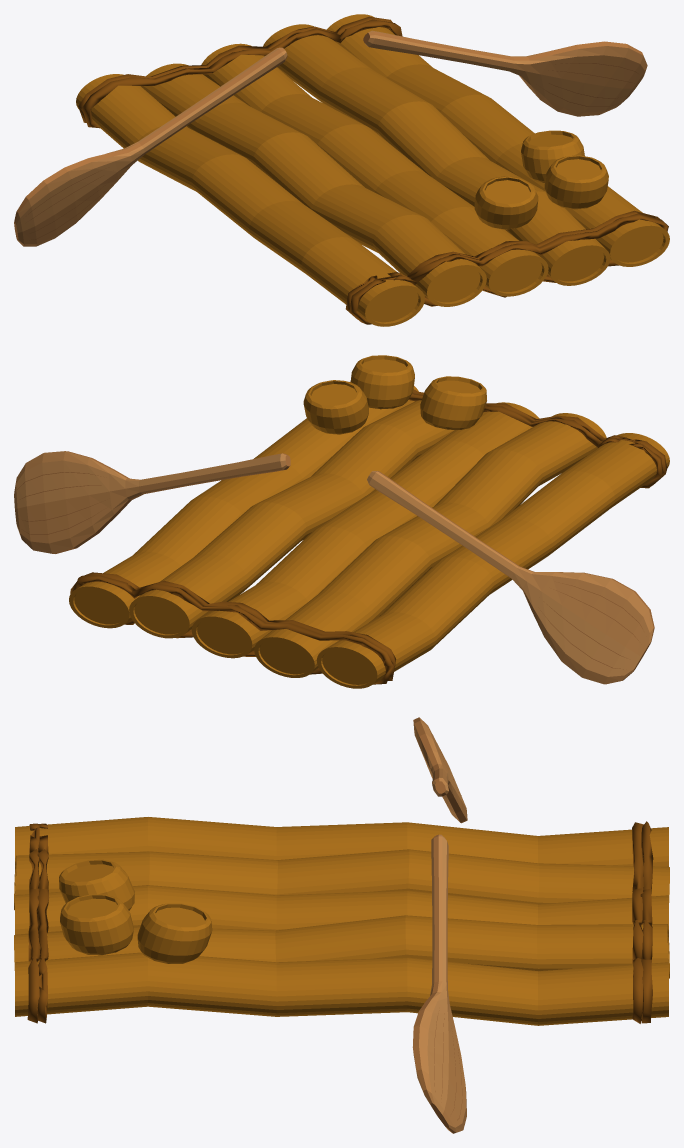
File: n-raft.glb
3 renders of one model, top to bottom at view 1: azimuth 30°, elevation 25°; view 2: azimuth 150°, elevation 25°; view 3: azimuth 270°, elevation 25°, orthographic. The views are drawn at different scales.
Visible parts, largest first — view 1: Trunk 2, Trunk 1, Noddsay carved wood paddle (×2), Trunk 6, Trunk 3, Trunk 7, Barrel 1, Barrel 2, Ropes 1, Ropes 4, Barrel 3, Ropes 3 (+1 smaller); view 2: Noddsay carved wood paddle (×2), Trunk 2, Trunk 1, Trunk 6, Trunk 3, Trunk 7, Barrel 2, Barrel 3, Ropes 3, Barrel 1, Ropes 4, Ropes 2 (+1 smaller); view 3: Trunk 7, Trunk 1, Trunk 2, Trunk 6, Trunk 3, Noddsay carved wood paddle (×2), Barrel 1, Barrel 3, Barrel 2, Ropes 4, Ropes 1, Ropes 3 (+1 smaller).
Boxes of the visible parts, box(x1,y1,x2,y2) form: Trunk 2: box(76, 74, 424, 326); Trunk 1: box(141, 63, 486, 306); Noddsay carved wood paddle (×2): box(14, 30, 647, 246); Trunk 6: box(263, 24, 610, 285); Trunk 3: box(201, 43, 548, 296); Trunk 7: box(327, 14, 669, 266); Barrel 1: box(544, 155, 608, 209); Barrel 2: box(474, 176, 538, 229); Ropes 1: box(349, 213, 668, 324); Ropes 4: box(82, 19, 402, 128); Barrel 3: box(521, 130, 584, 182); Ropes 3: box(78, 16, 392, 122); Noddsay carved wood paddle (×2): box(14, 451, 654, 684); Trunk 2: box(316, 433, 669, 688); Trunk 1: box(254, 413, 606, 677); Trunk 6: box(129, 400, 454, 638); Trunk 3: box(191, 402, 539, 658); Trunk 7: box(69, 386, 418, 628); Barrel 2: box(420, 376, 486, 429); Barrel 3: box(303, 380, 368, 434); Ropes 3: box(70, 575, 393, 684); Barrel 1: box(350, 355, 414, 409); Ropes 4: box(77, 572, 396, 680); Ropes 2: box(409, 393, 663, 488); Trunk 7: box(15, 952, 668, 1025); Trunk 1: box(14, 849, 669, 910); Trunk 2: box(15, 817, 668, 866); Trunk 6: box(14, 915, 669, 978); Trunk 3: box(15, 885, 668, 935); Noddsay carved wood paddle (×2): box(412, 717, 467, 1133); Barrel 1: box(60, 894, 133, 955); Barrel 3: box(137, 903, 212, 963); Barrel 2: box(59, 859, 134, 910); Ropes 4: box(632, 822, 643, 1023); Ropes 1: box(27, 823, 40, 1023); Ropes 3: box(640, 821, 653, 1023).
Bounding box in the file's own units: 7.02 × 1.63 × 5.6.
